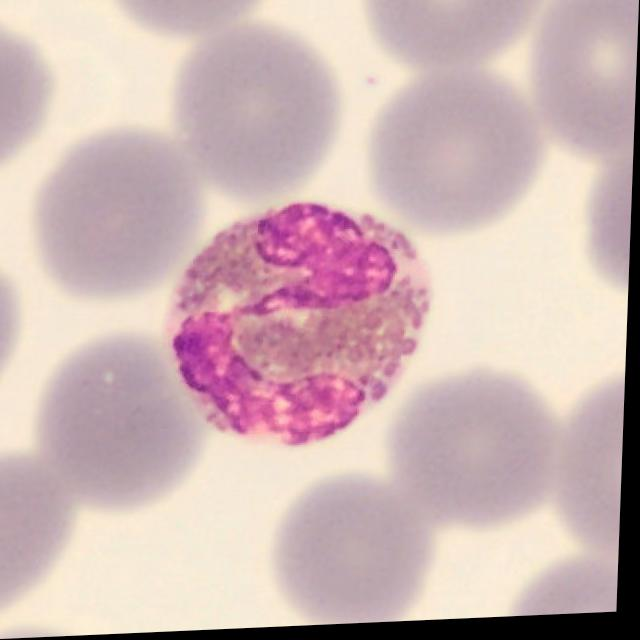Eosinofilo: (167, 206, 437, 451)
